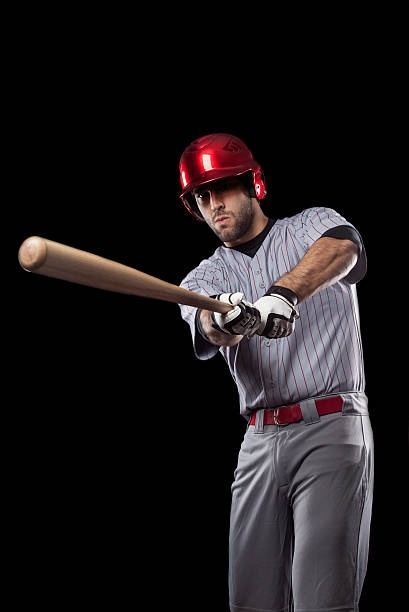bita: (18, 234, 263, 333)
